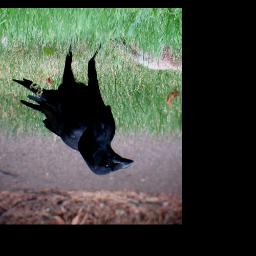Crow: (12, 40, 136, 176)
